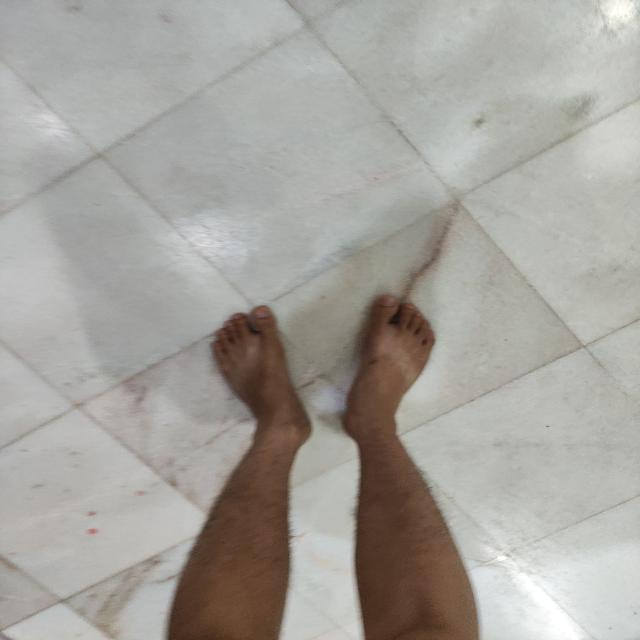No_Shoes: (329, 283, 446, 440), (189, 296, 315, 436)
